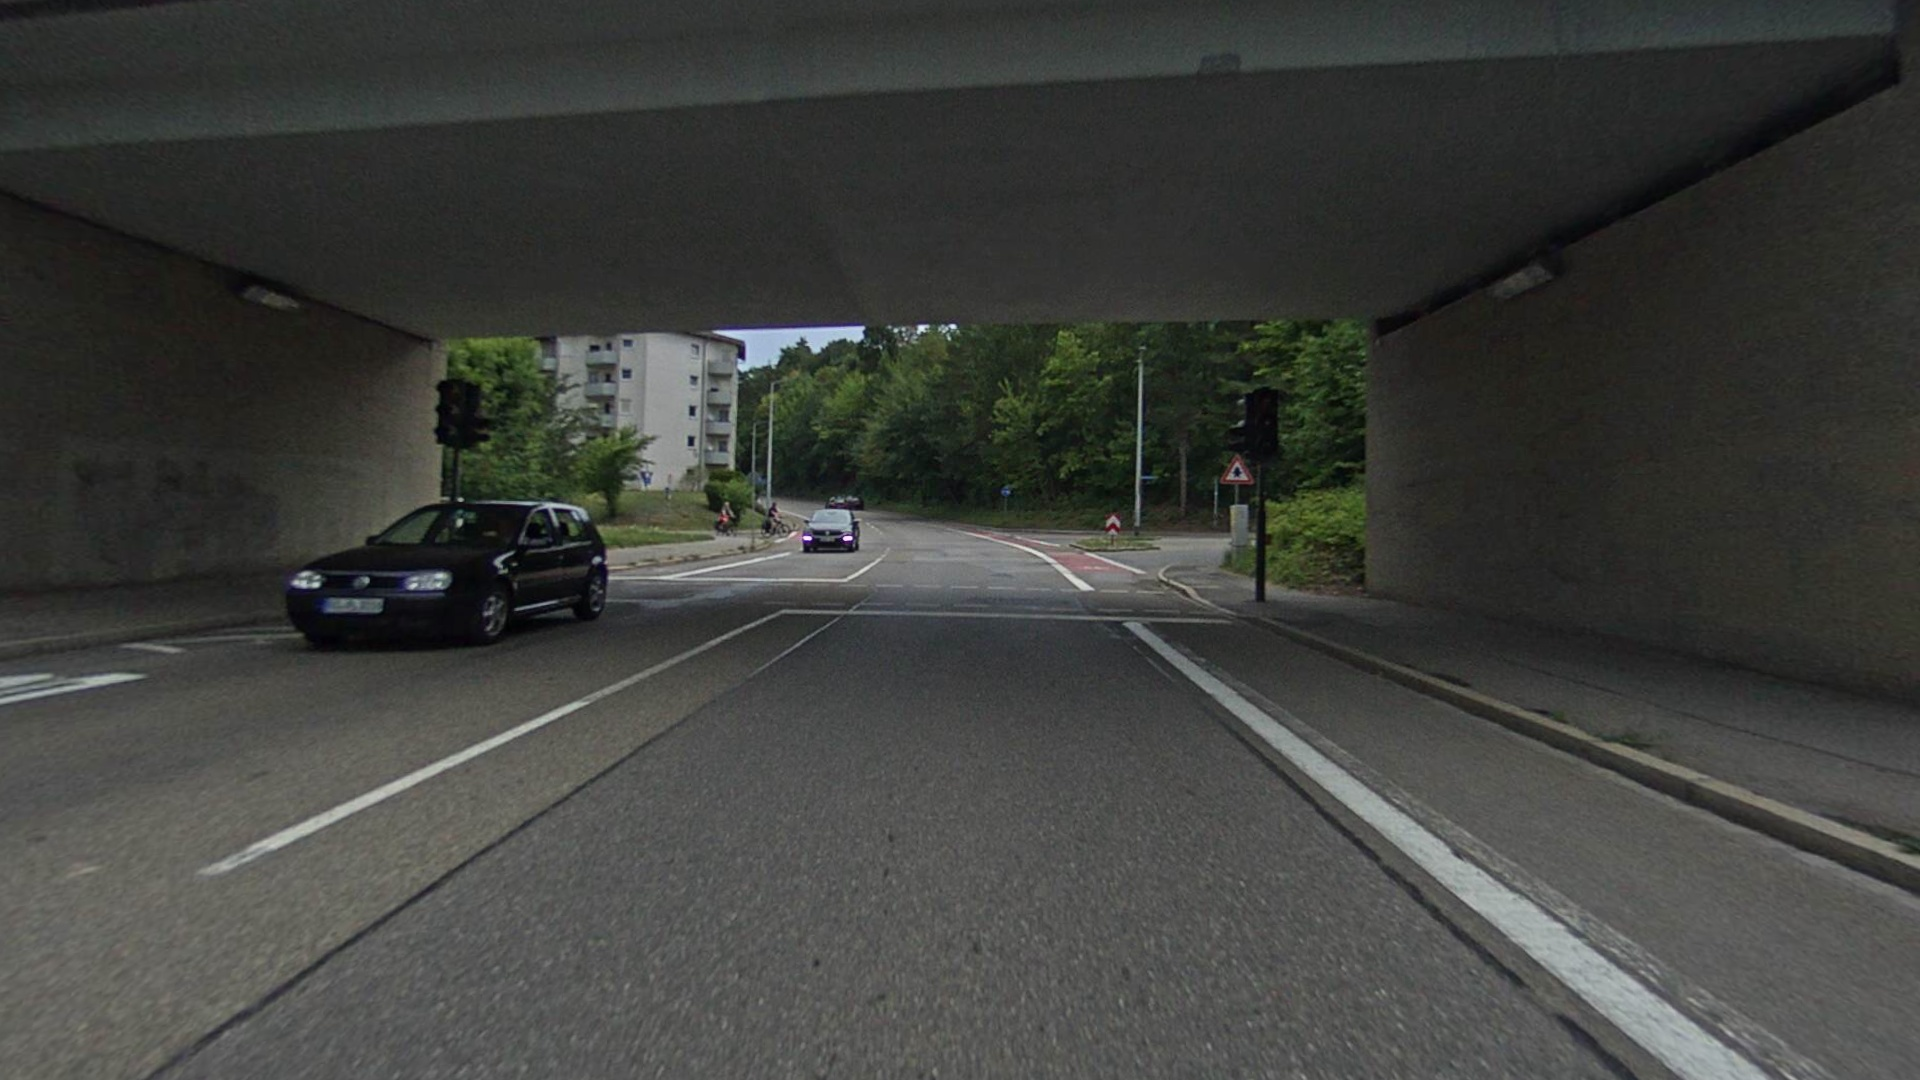car: (280, 497, 611, 645)
